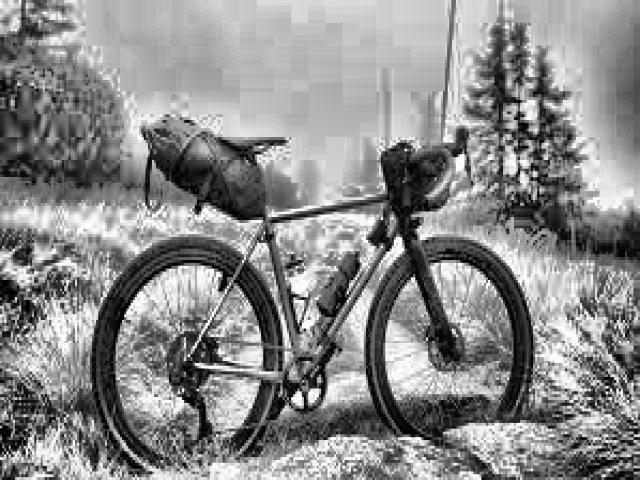cassette: (166, 331, 212, 391)
cranks_set: (282, 340, 337, 416)
pedal: (318, 335, 346, 358)
rear_derailleur: (165, 369, 218, 442)
saddle: (214, 132, 290, 157)
sti_shifter: (455, 123, 479, 188)
wheel: (91, 235, 287, 470), (362, 234, 535, 450)
